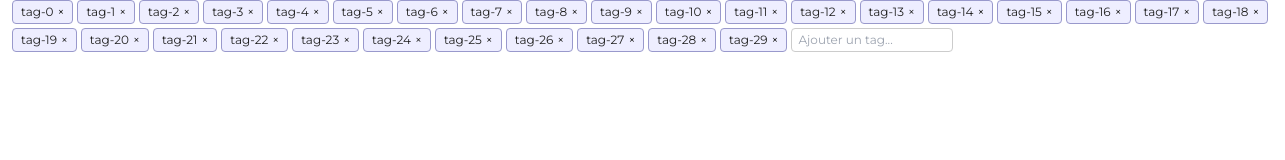
SavTagsBar.vue (Story 3.7b AC#14) › SB-05: toast role="alert" sur 422 TAGS_LIMIT
Note: Try to add one more tag
In the field named "Ajouter un tag": (872, 40) [792,28,954,52], type "newtag"
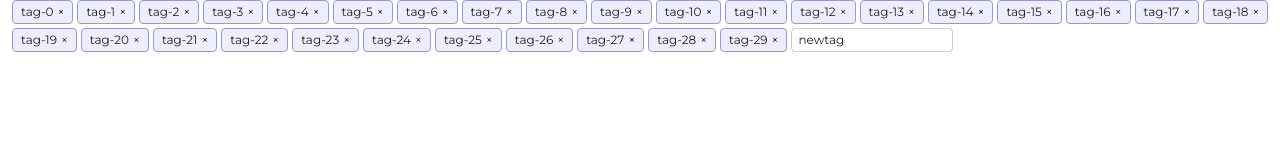
Press Enter in the field named "Ajouter un tag", box [792,28,954,52]
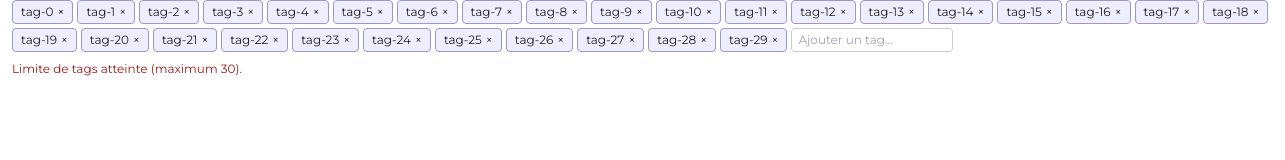
Expected: the message "Limite de tags atteinte (maximum 30)." is shown, [12,61,242,76]
